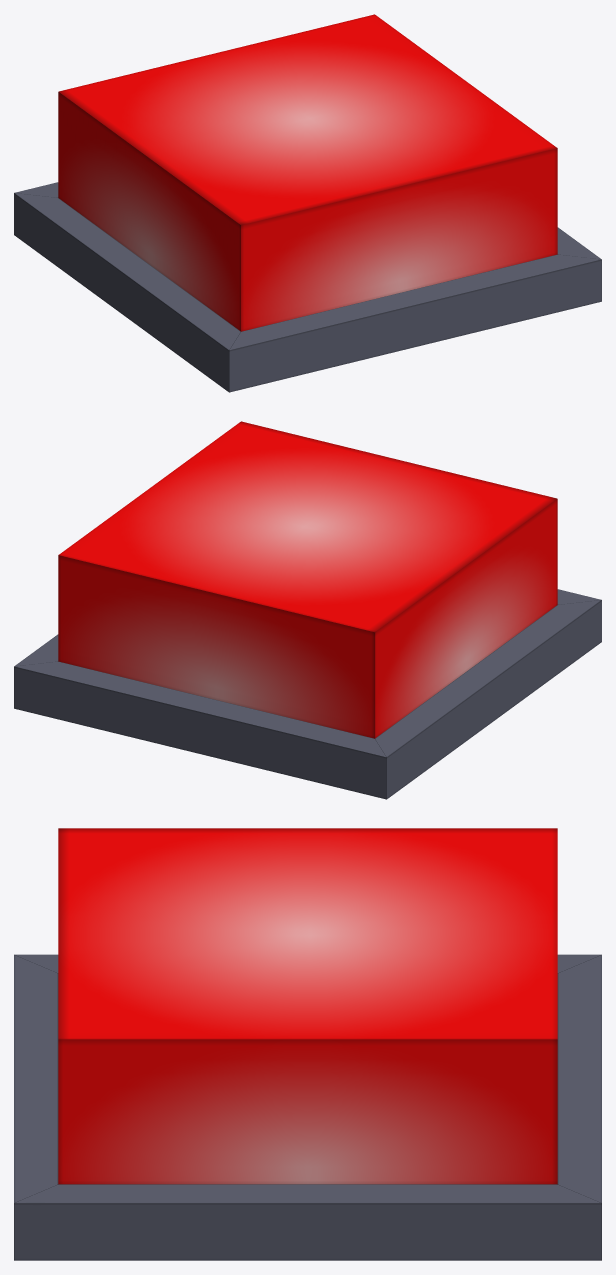
The model's file is Button_Squared_Red.FBX.
The picture shows the model from 3 angles, top to bottom: view 1: azimuth 30°, elevation 25°; view 2: azimuth 150°, elevation 25°; view 3: azimuth 270°, elevation 25°; orthographic projection. The views are drawn at different scales.
Visible parts, largest first — view 1: Push_Me, Button_Squared_Red; view 2: Push_Me, Button_Squared_Red; view 3: Push_Me, Button_Squared_Red.
Boxes of the visible parts, x1,y1,x2,y2 form: Push_Me: (58,14,557,331); Button_Squared_Red: (14,182,601,392); Push_Me: (58,421,557,738); Button_Squared_Red: (14,589,601,799); Push_Me: (58,828,557,1184); Button_Squared_Red: (14,954,601,1260).
Size of the model in its own units: 0.0922 by 0.0351 by 0.0922.
Materials: 1 (1 with a texture image).
